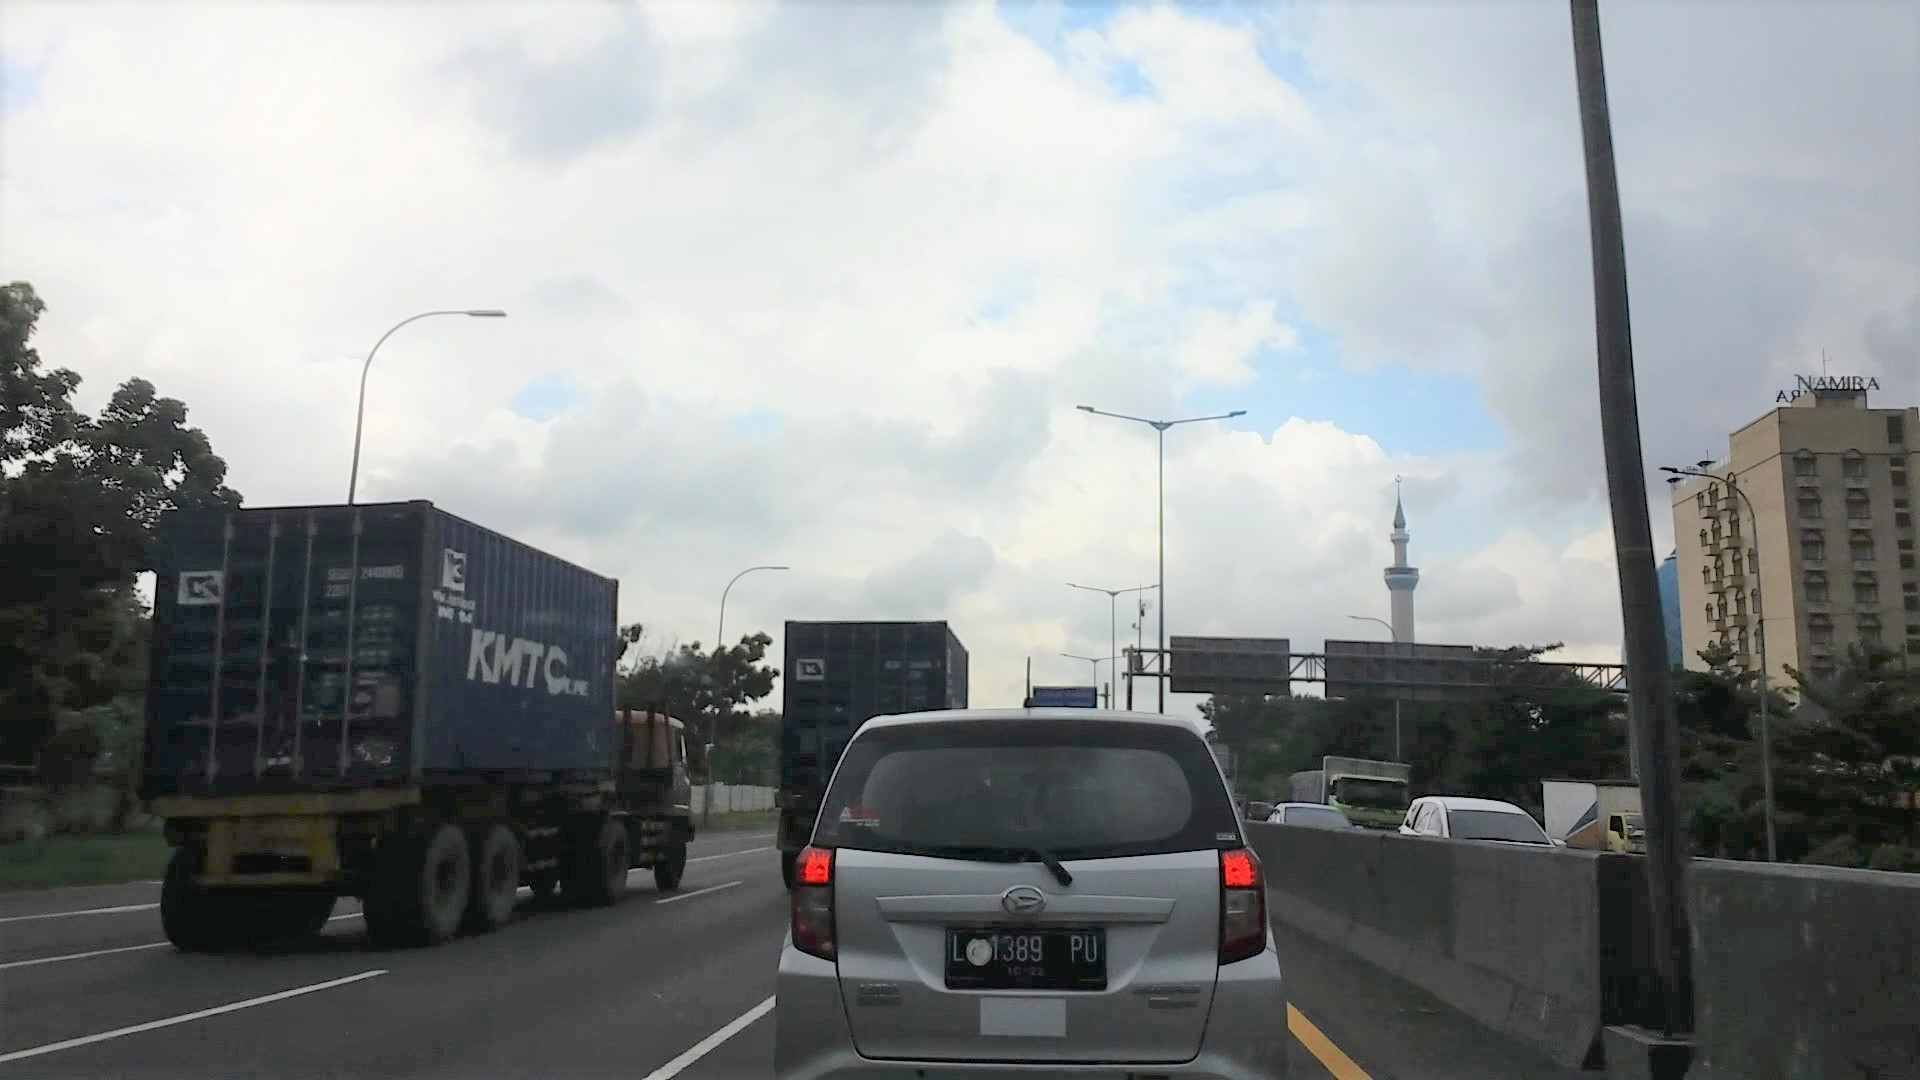plate_positive: (944, 924, 1106, 992)
